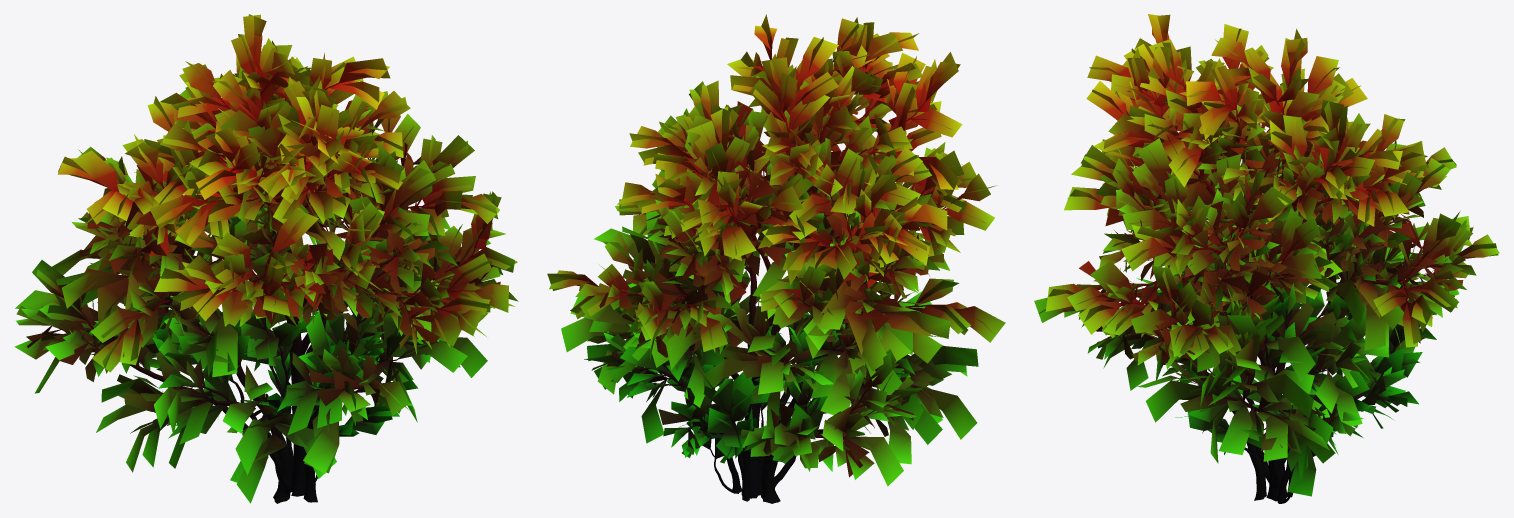
Rendered from Black Alder Large.fbx.
3 views of the same model, side by side, from view 1: azimuth 30°, elevation 25°; view 2: azimuth 150°, elevation 25°; view 3: azimuth 270°, elevation 25° (orthographic). The views are drawn at different scales.
Visible parts, largest first — view 1: Black Alder Large; view 2: Black Alder Large; view 3: Black Alder Large.
Boxes of the visible parts, x1,y1,x2,y2 form: Black Alder Large: [14, 14, 518, 503]; Black Alder Large: [547, 14, 1005, 503]; Black Alder Large: [1034, 14, 1499, 503].
Size of the model in its own units: 12.44 by 13.15 by 14.
